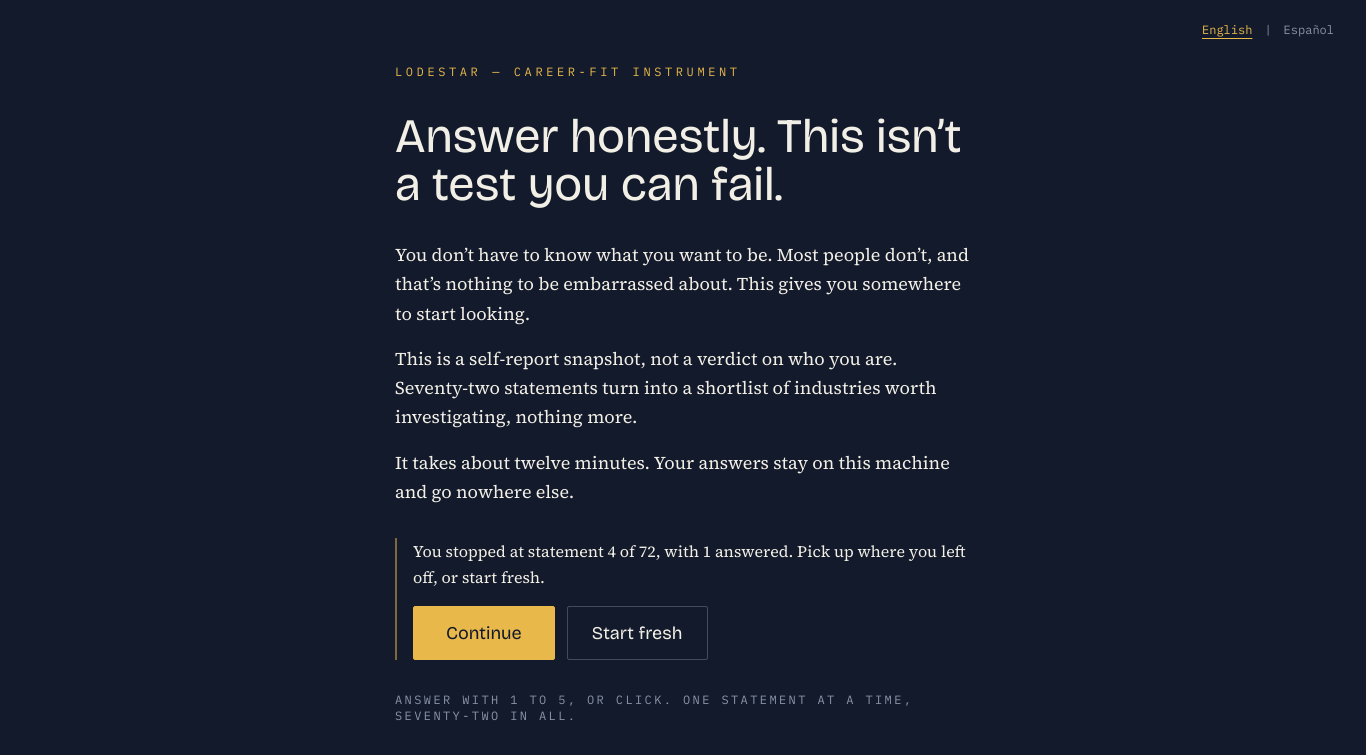
Test case: assessment flow › restores an in-progress session from localStorage behind a resume cue
Click the button "Continue" at (484,633), box [413, 606, 555, 660]
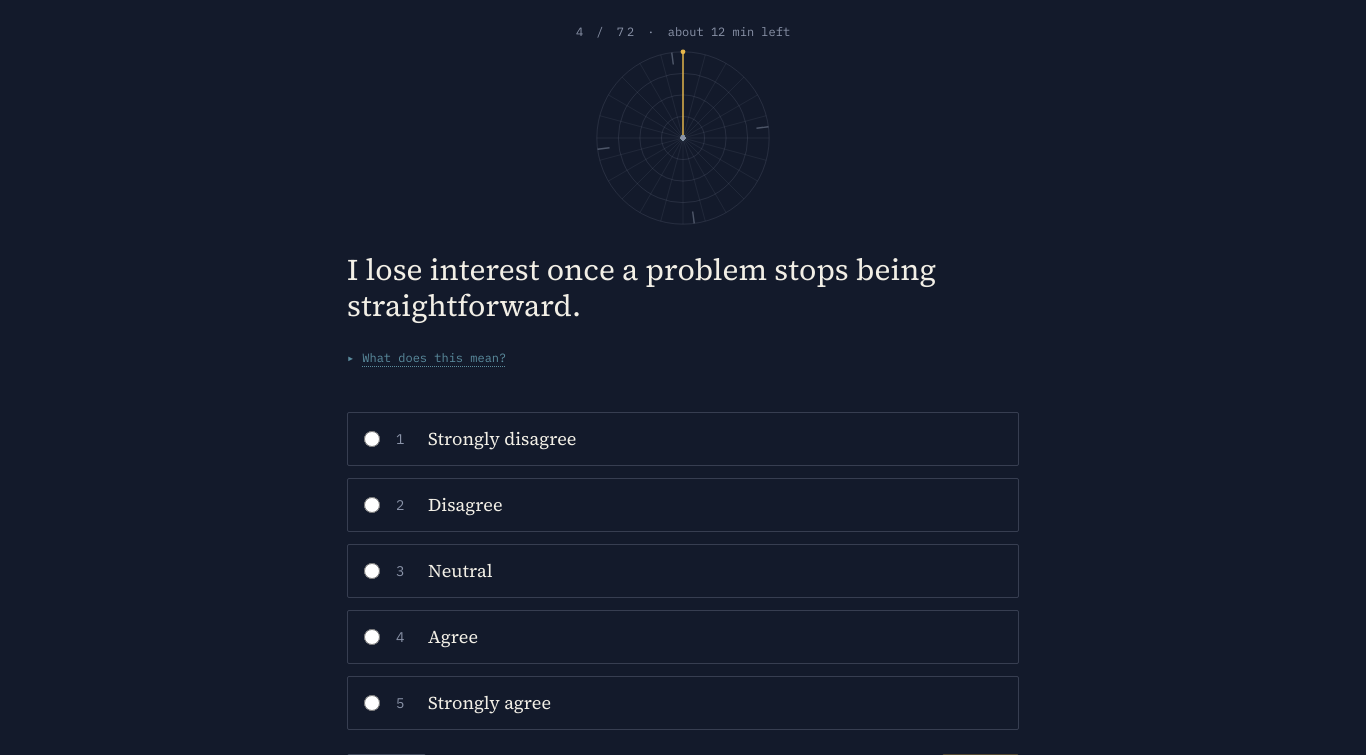
Expected: the text "I lose interest once a problem stops being straightforward." is shown, [347, 252, 1019, 324]
